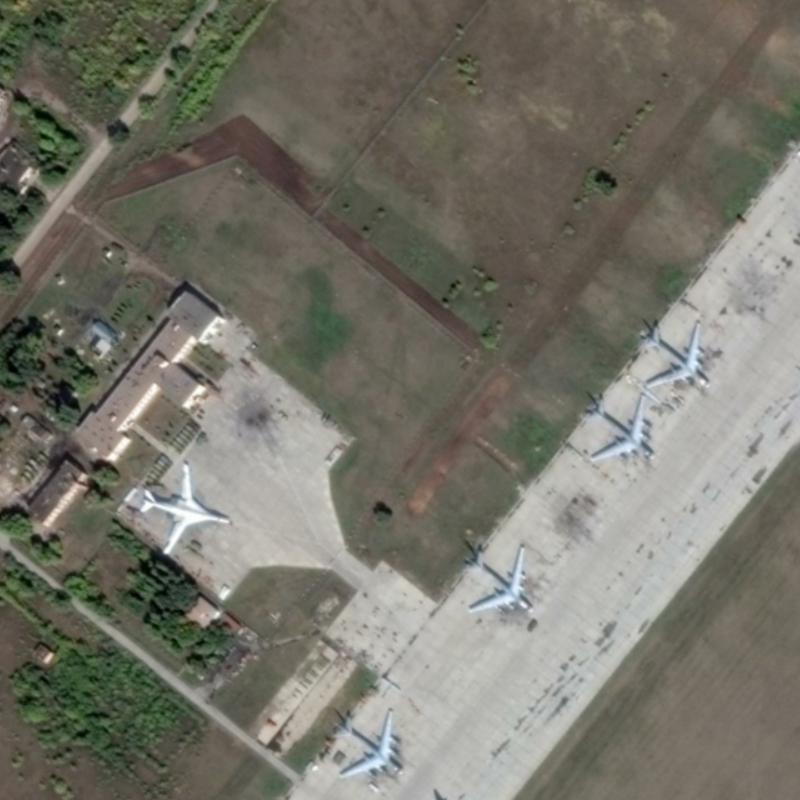A17: (326, 704, 409, 782), (460, 538, 538, 620), (576, 390, 661, 464), (634, 316, 715, 393)
A6: (137, 456, 239, 560)
